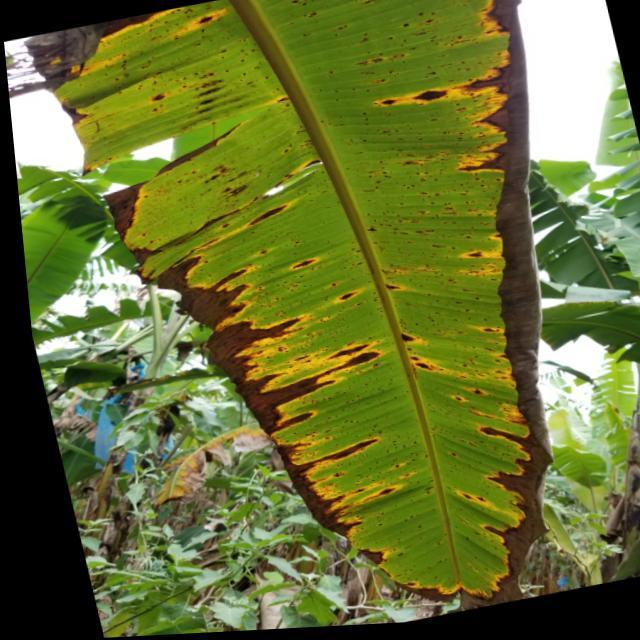Early_rust: (34, 0, 566, 599)
